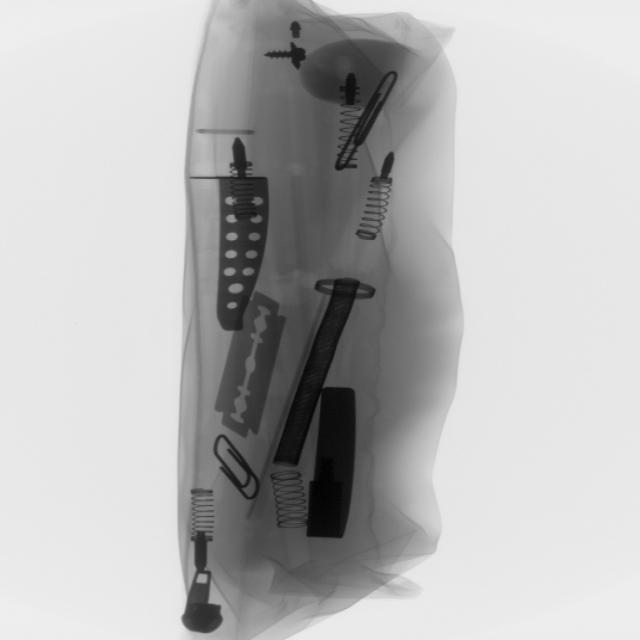BLADE: (213, 287, 291, 448)
